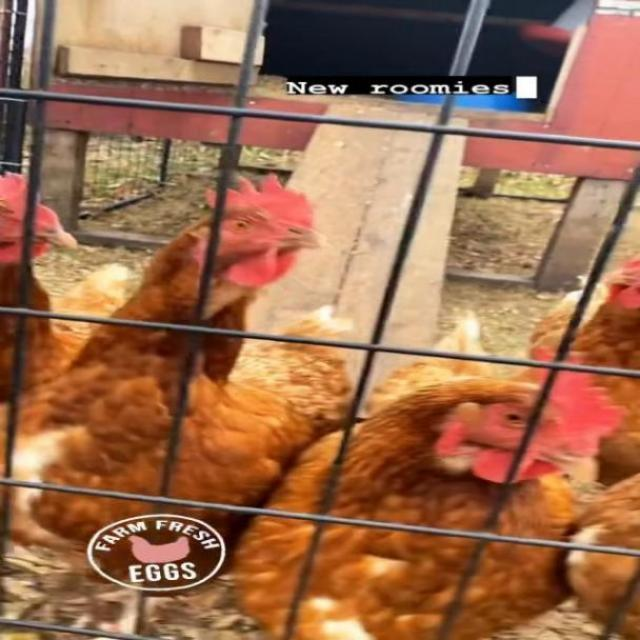Chicken: (0, 173, 364, 634), (227, 310, 628, 640), (0, 168, 134, 406), (526, 253, 640, 489), (557, 472, 640, 640)
